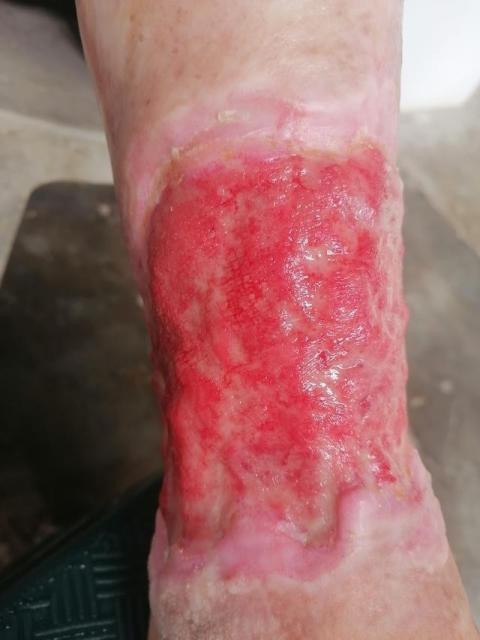wound: (137, 95, 437, 581)
